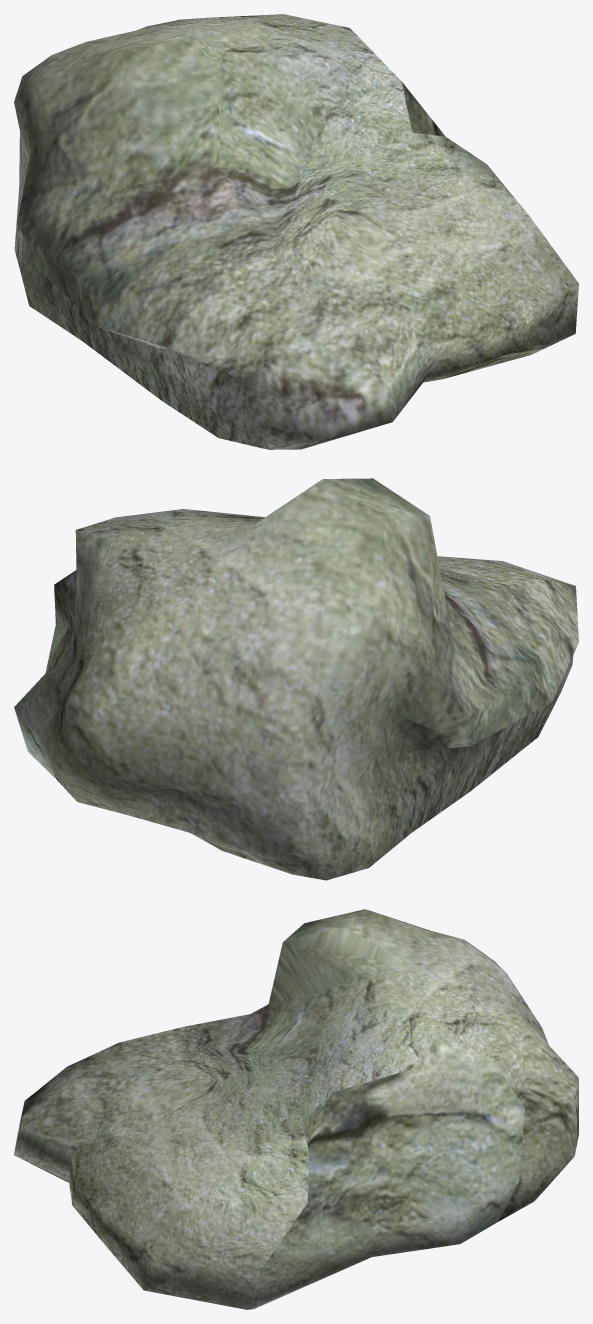
Rendered from StackingRock_03.fbx.
3 views of the same model, one above another, from view 1: azimuth 30°, elevation 25°; view 2: azimuth 150°, elevation 25°; view 3: azimuth 270°, elevation 25° (orthographic). The views are drawn at different scales.
Parts seen in each view (by area): view 1: pCube1; view 2: pCube1; view 3: pCube1.
Boxes of the visible parts, x1=… form: pCube1: x1=14, y1=14, x2=578, y2=449; pCube1: x1=14, y1=478, x2=578, y2=880; pCube1: x1=14, y1=909, x2=578, y2=1309.
Bounding box in the file's own units: 8.81 × 6.12 × 10.82.
